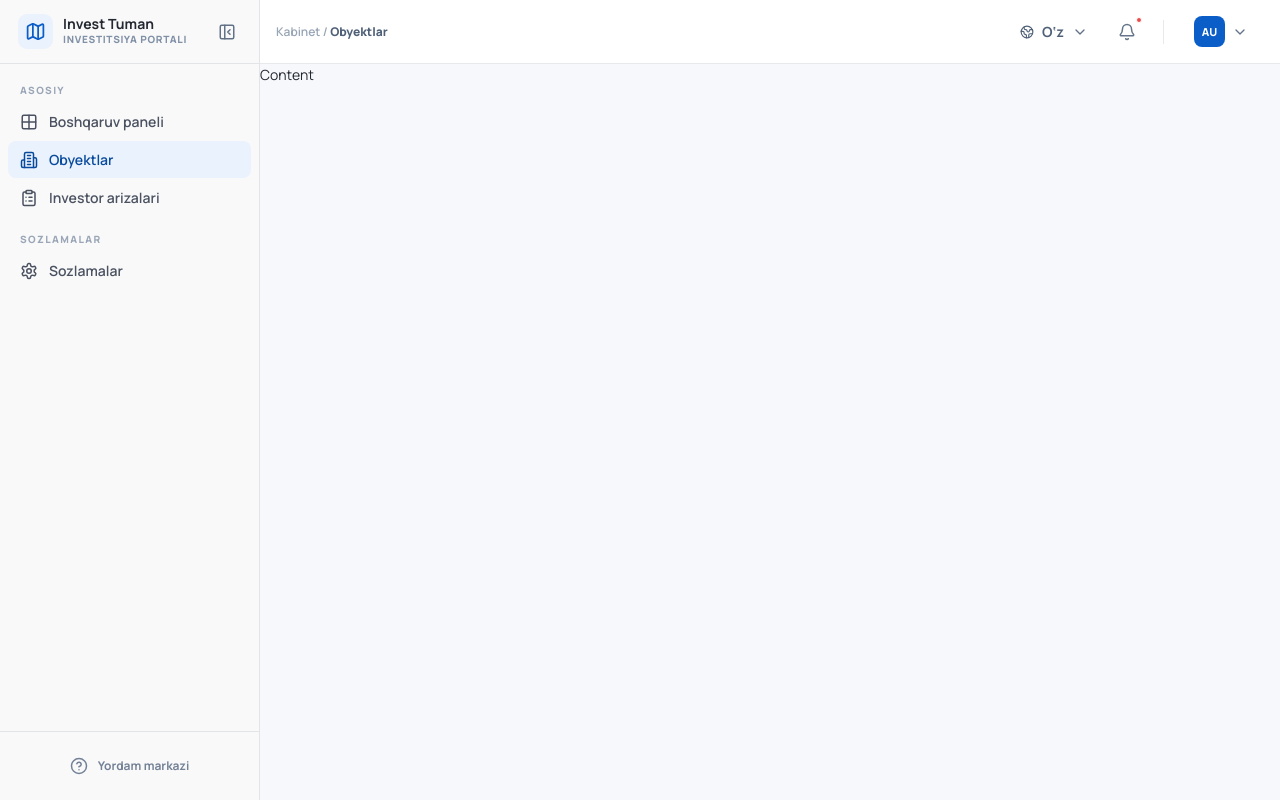
collapses and expands the sidebar without losing the menu control
Click the button named "Menyuni yig‘ish": click(227, 32) [211,10,243,54]
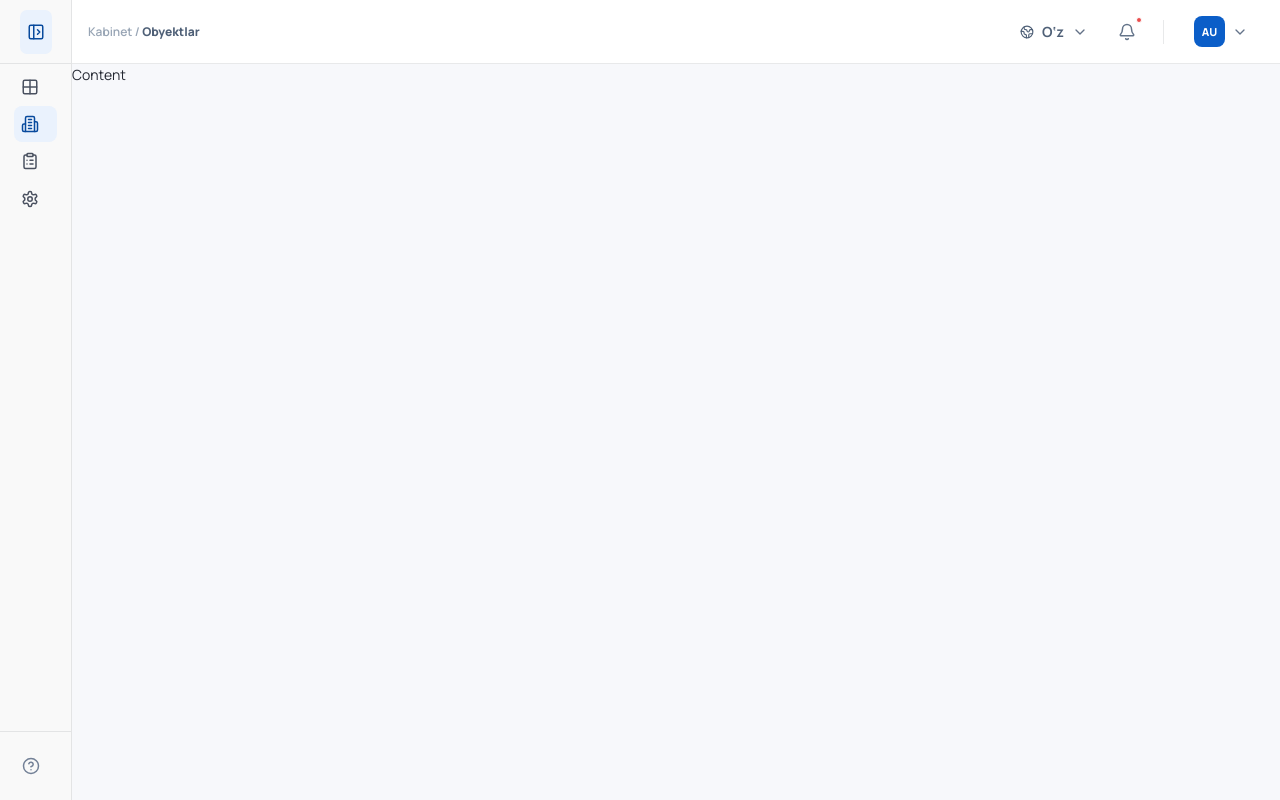
Result: the button named "Menyuni ochish" is collapsed
Click the button named "Menyuni ochish": click(36, 32) [20,10,52,54]
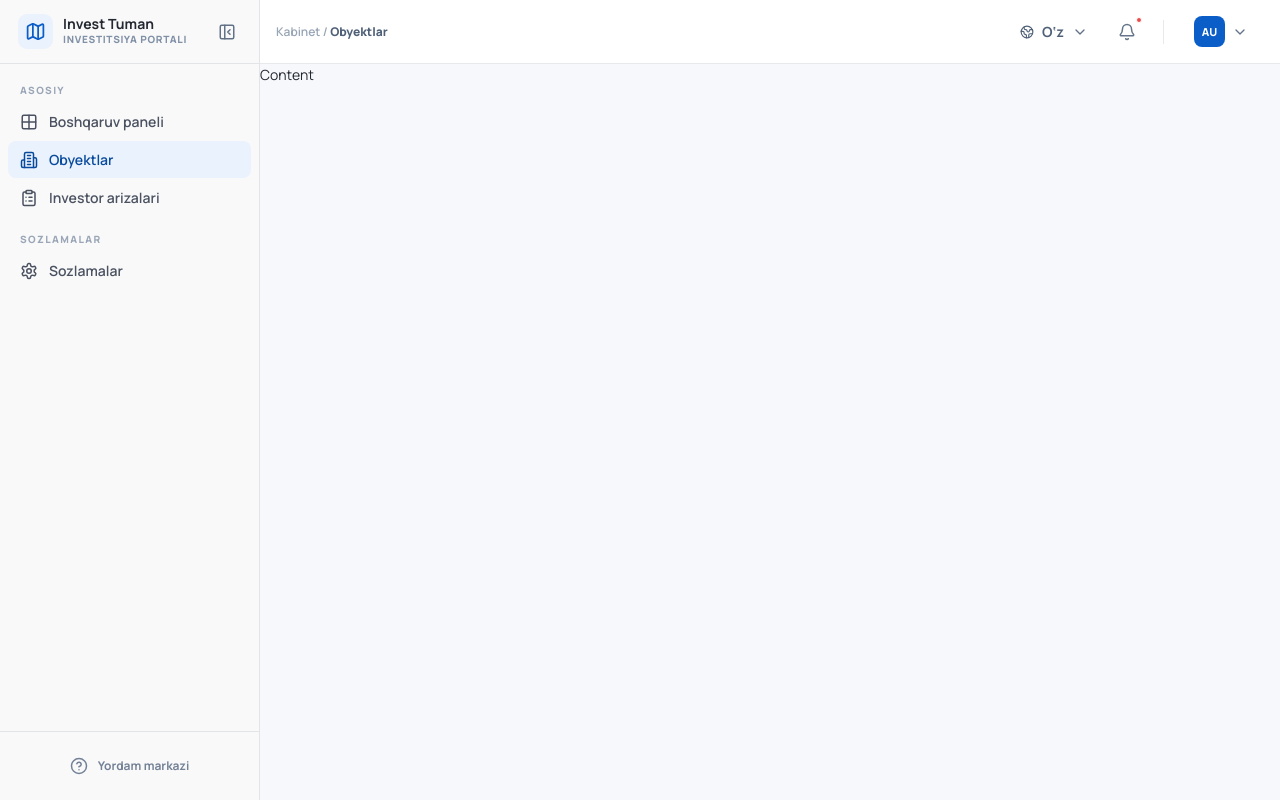
Result: the button named "Menyuni yig‘ish" is expanded at [211,10,243,54]
